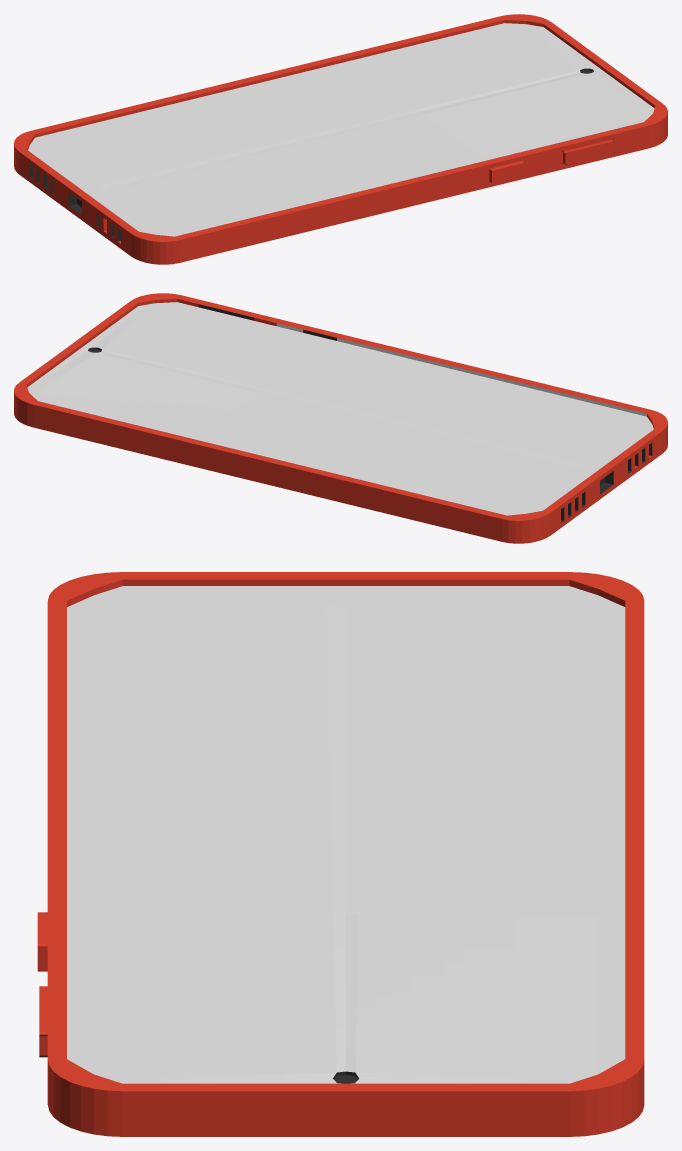
Rendered from MobilePhone.fbx.
The picture shows the model from 3 angles, top to bottom: view 1: azimuth 30°, elevation 25°; view 2: azimuth 150°, elevation 25°; view 3: azimuth 270°, elevation 25°; orthographic projection. The views are drawn at different scales.
Parts seen in each view (by area): view 1: Cube; view 2: Cube; view 3: Cube.
Part boxes in pixels (x1,y1,x2,y2): Cube: (14,14,667,264); Cube: (14,293,667,543); Cube: (37,572,644,1136).
Size of the model in its own units: 216 by 8.85 by 107.
